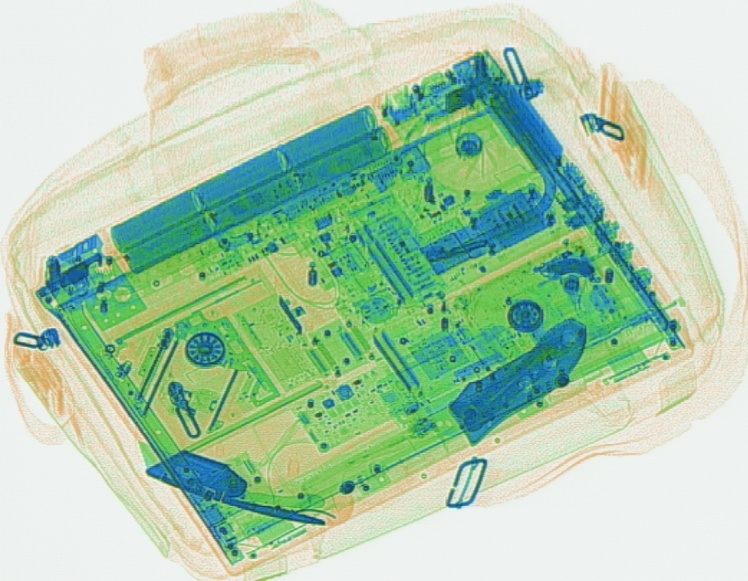knife: (444, 316, 588, 447)
